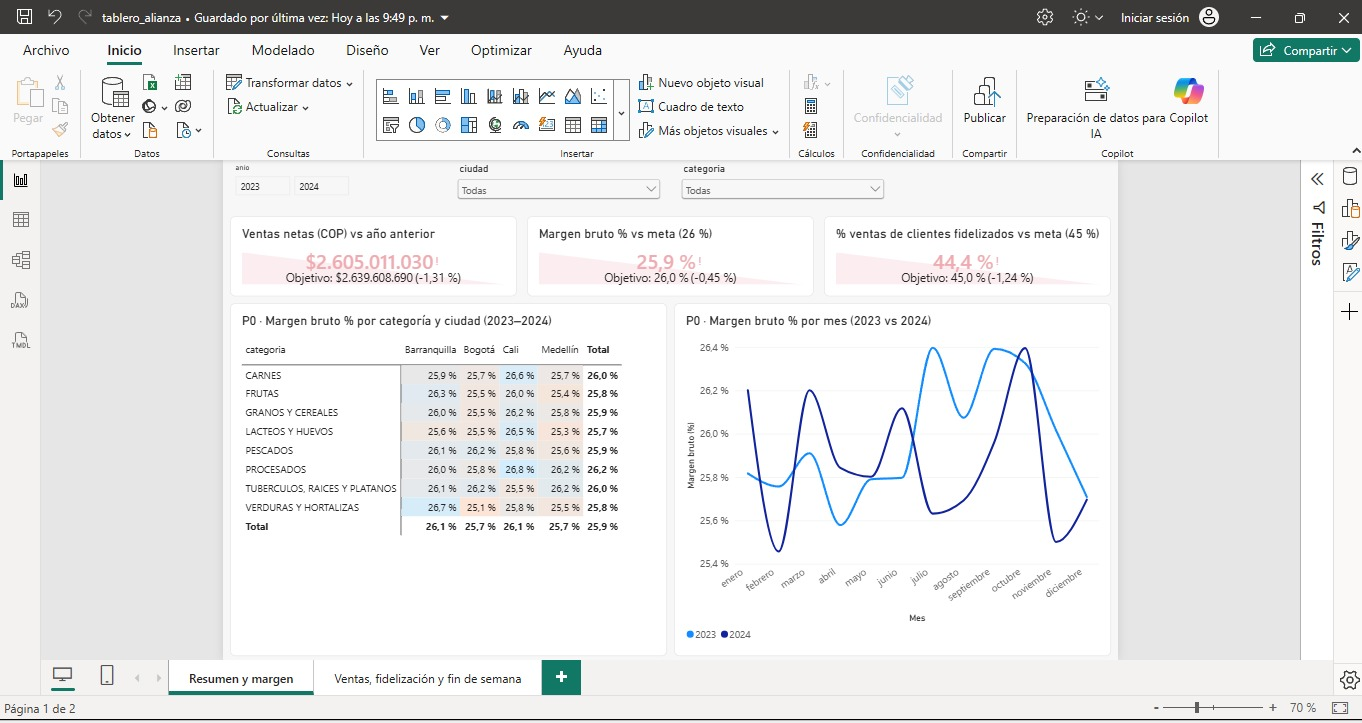

Layout of this report page (visuals, bound fields, positions):
{"tool":"powerbi","page":{"name":"Resumen y margen","canvas":[1920,1080],"ordinal":0},"visuals":[{"type":"pivotTable","title":"P0 · Margen bruto % por categoría y ciudad (2023–2024)","fields":{"Columns":["dw_alianza dim_sede.ciudad"],"Rows":["dw_alianza dim_producto.categoria"],"Values":["dw_alianza fact_ventas.Margen %"]},"box":[10,205,625,505],"z":0},{"type":"lineChart","title":"P0 · Margen bruto % por mes (2023 vs 2024)","fields":{"Category":["dw_alianza dim_tiempo.nombre_mes"],"Series":["dw_alianza dim_tiempo.anio"],"Y":["dw_alianza fact_ventas.Margen %"]},"box":[645,205,625,505],"z":1000},{"type":"kpi","title":"Ventas netas (COP) vs año anterior","fields":{"Goal":["dw_alianza fact_ventas.Ventas año anterior"],"Indicator":["dw_alianza fact_ventas.Ventas netas"],"TrendLine":["dw_alianza dim_tiempo.anio"]},"box":[10,80,410,115],"z":2000},{"type":"kpi","title":"Margen bruto % vs meta (26 %)","fields":{"Goal":["dw_alianza fact_ventas.Meta margen %"],"Indicator":["dw_alianza fact_ventas.Margen %"],"TrendLine":["dw_alianza dim_tiempo.anio"]},"box":[435,80,410,115],"z":3000},{"type":"kpi","title":"% ventas de clientes fidelizados vs meta (45 %)","fields":{"Goal":["dw_alianza fact_ventas.Meta % fidelizadas"],"Indicator":["dw_alianza fact_ventas.% ventas fidelizadas"],"TrendLine":["dw_alianza dim_tiempo.anio"]},"box":[860,80,410,115],"z":4000},{"type":"slicer","fields":{"Values":["dw_alianza dim_tiempo.anio"]},"box":[10,5,300,68],"z":5000},{"type":"slicer","fields":{"Values":["dw_alianza dim_sede.ciudad"]},"box":[330,5,300,68],"z":6000},{"type":"slicer","fields":{"Values":["dw_alianza dim_producto.categoria"]},"box":[650,5,300,68],"z":7000}]}

Visuals, with their boxes on the page's 1920x1080 design canvas (x1, y1, x2, y2). These are canvas units, not pixel positions in the 1362x723 screenshot, which may show the page scaled, cropped or inside an application window:
"P0 · Margen bruto % por categoría y ciudad (2023–2024)" pivotTable: <box>10,205,635,710</box>
"P0 · Margen bruto % por mes (2023 vs 2024)" lineChart: <box>645,205,1270,710</box>
"Ventas netas (COP) vs año anterior" kpi: <box>10,80,420,195</box>
"Margen bruto % vs meta (26 %)" kpi: <box>435,80,845,195</box>
"% ventas de clientes fidelizados vs meta (45 %)" kpi: <box>860,80,1270,195</box>
slicer - dw_alianza dim_tiempo.anio: <box>10,5,310,73</box>
slicer - dw_alianza dim_sede.ciudad: <box>330,5,630,73</box>
slicer - dw_alianza dim_producto.categoria: <box>650,5,950,73</box>
